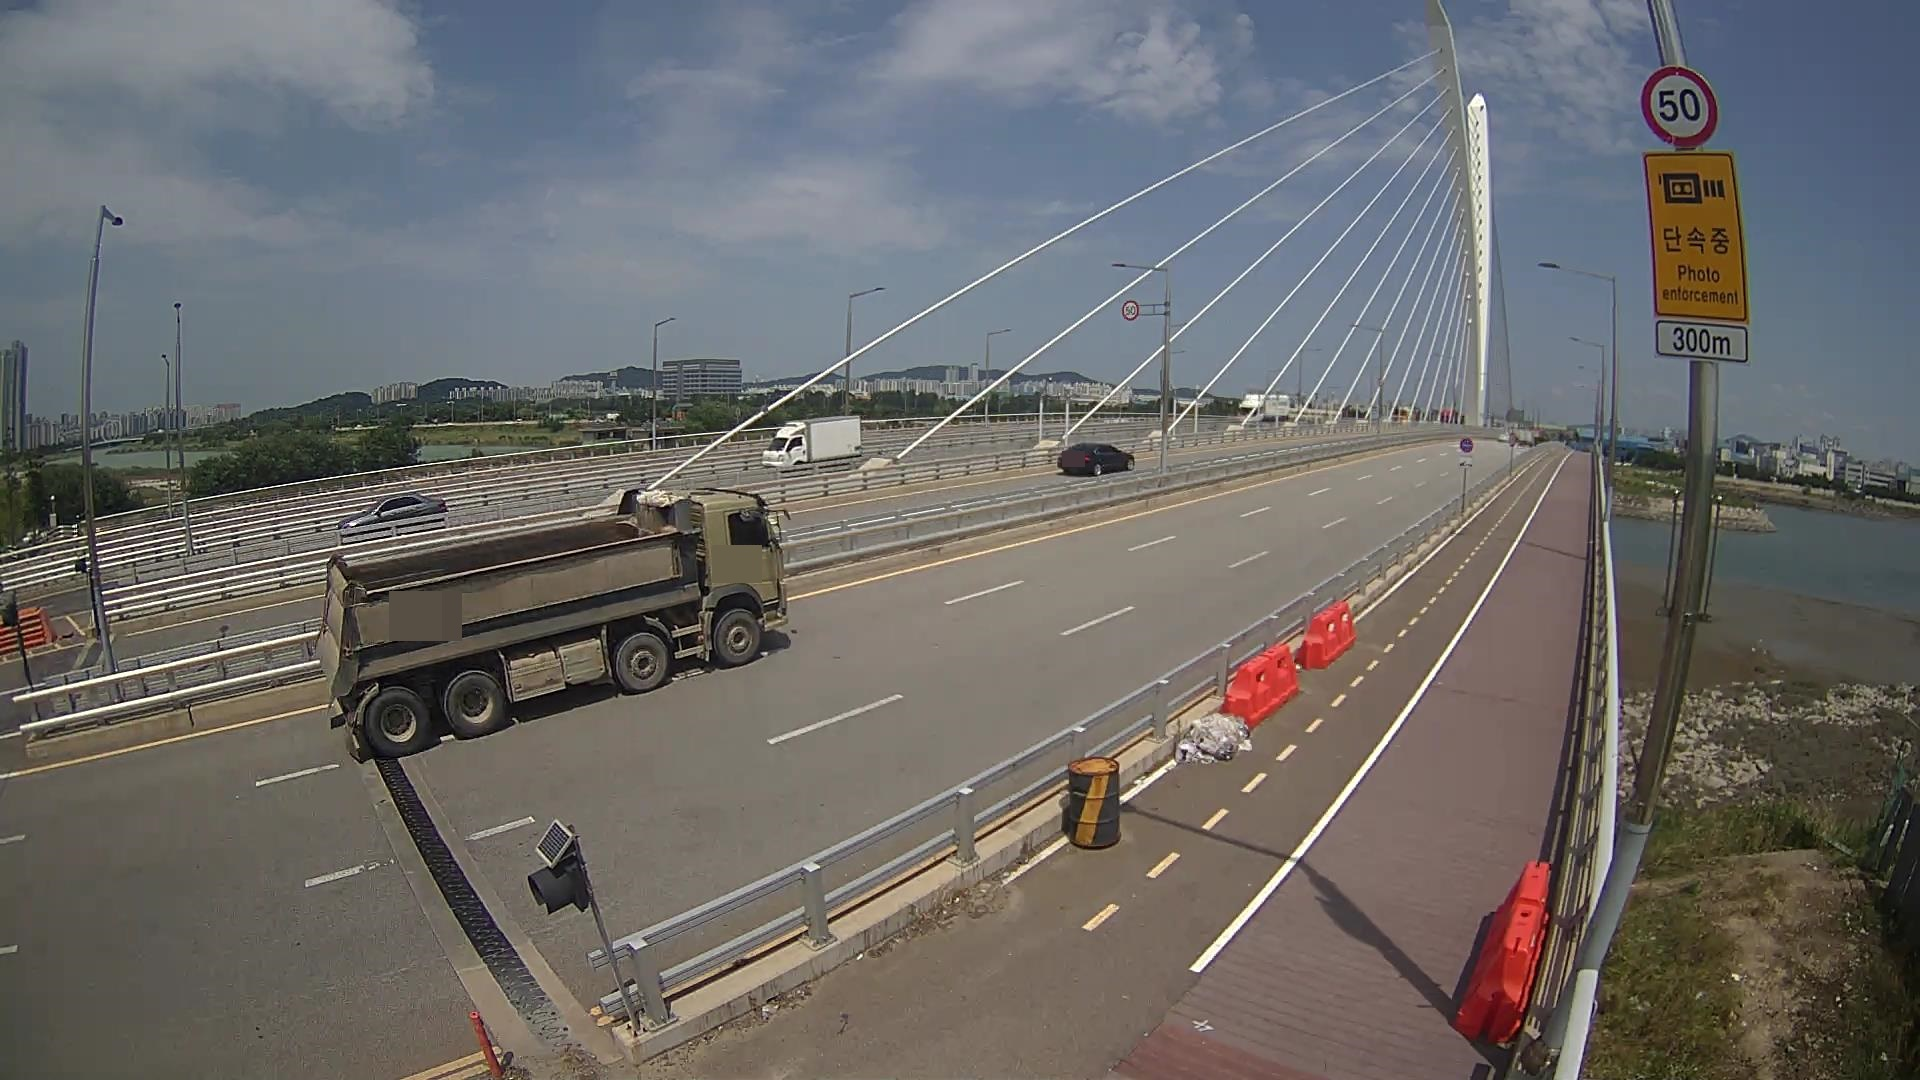정상차량: (314, 487, 792, 763)
